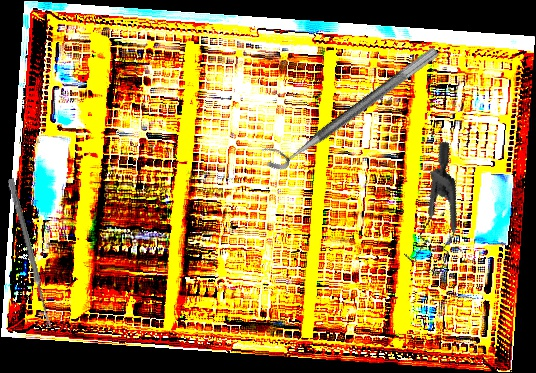Fixation Ring: (257, 32, 441, 177)
Speculum: (369, 140, 495, 284)
Surgical Spoon: (6, 178, 54, 329)
